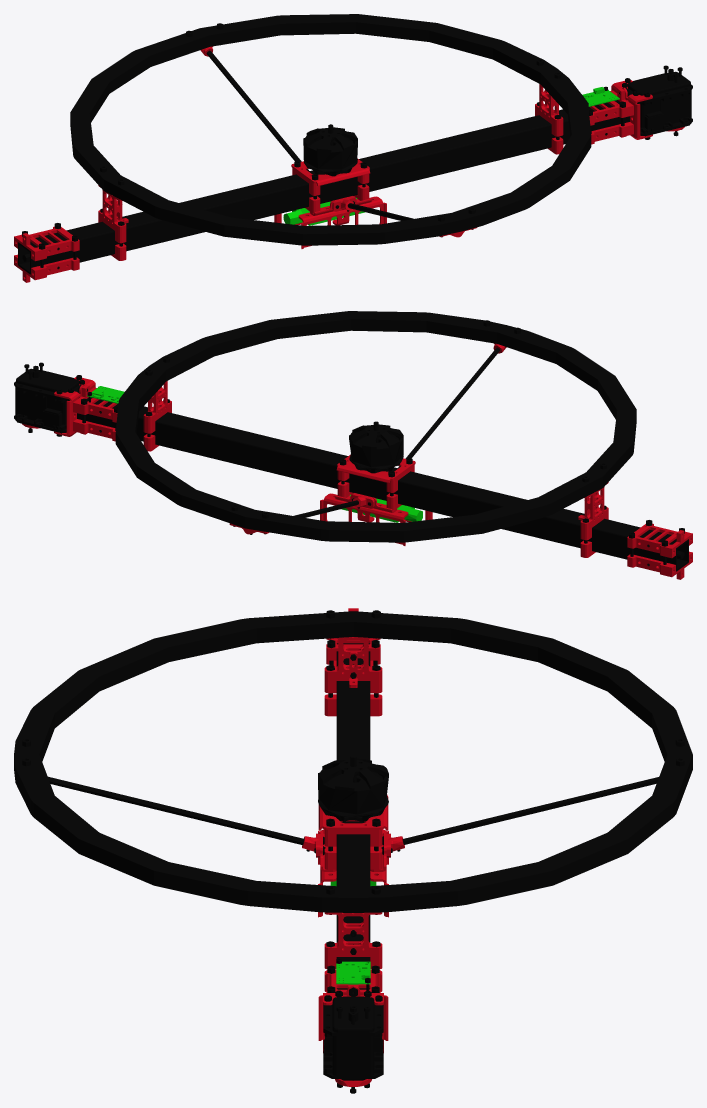
File: head_link.dae
3 views of the same model, one above another, from view 1: azimuth 30°, elevation 25°; view 2: azimuth 150°, elevation 25°; view 3: azimuth 270°, elevation 25° (orthographic). The views are drawn at different scales.
Parts seen in each view (by area): view 1: Head_Link_Black_Part, Head_Link_Red_Part, Head_Link_Green_Part; view 2: Head_Link_Black_Part, Head_Link_Red_Part, Head_Link_Green_Part; view 3: Head_Link_Black_Part, Head_Link_Red_Part, Head_Link_Green_Part.
Part boxes in pixels (x1,y1,x2,y2): Head_Link_Black_Part: (18,14,692,274); Head_Link_Red_Part: (14,46,684,282); Head_Link_Green_Part: (283,87,619,225); Head_Link_Black_Part: (14,311,688,571); Head_Link_Red_Part: (22,343,692,579); Head_Link_Green_Part: (87,386,422,522); Head_Link_Black_Part: (14,610,692,1093); Head_Link_Red_Part: (302,608,404,1086); Head_Link_Green_Part: (330,880,376,984).
Size of the model in its own units: 0.582 by 0.4 by 0.0912.
